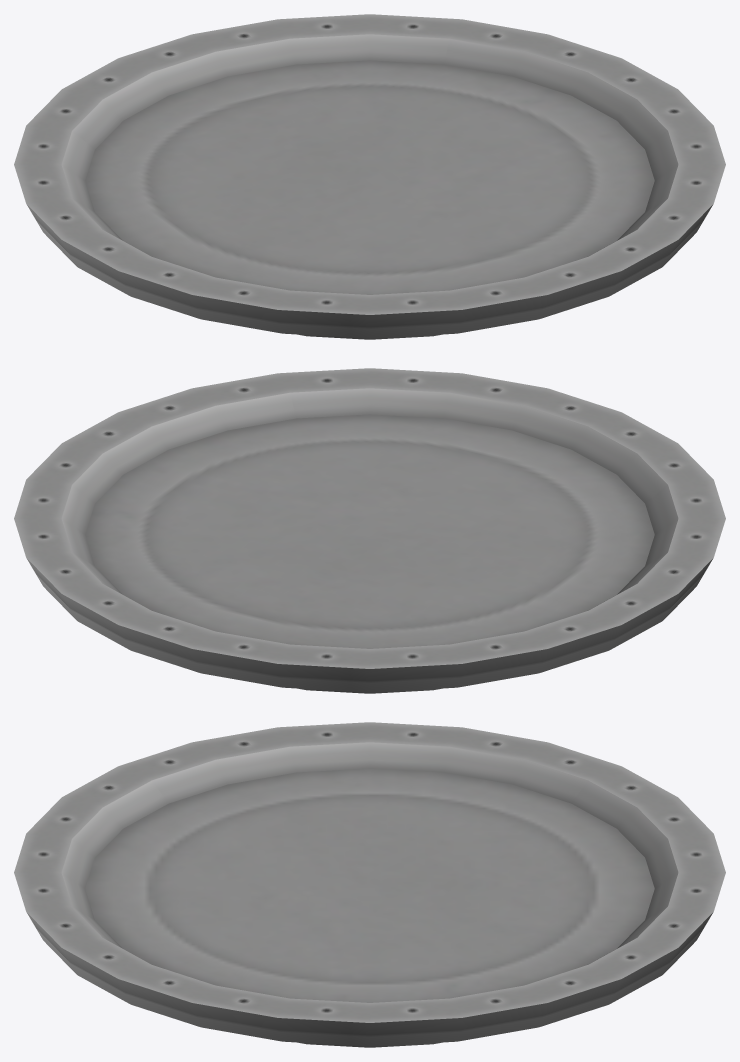
Rendered from Libra_Engine_1.obj.
3 views of the same model, one above another, from view 1: azimuth 30°, elevation 25°; view 2: azimuth 150°, elevation 25°; view 3: azimuth 270°, elevation 25° (orthographic).
Parts seen in each view (by area): view 1: Libra_Engine_A; view 2: Libra_Engine_A; view 3: Libra_Engine_A.
Boxes of the visible parts, left/top/right/bottom form: Libra_Engine_A: left=14, top=14, right=725, bottom=339; Libra_Engine_A: left=14, top=368, right=725, bottom=693; Libra_Engine_A: left=14, top=722, right=725, bottom=1047.
Size of the model in its own units: 0.9375 by 0.105 by 0.9375.
